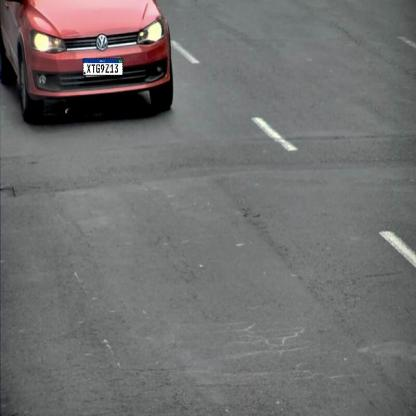PlacaM: (83, 58, 123, 76)
